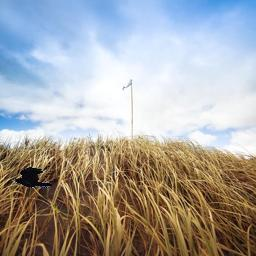Crow: (12, 167, 52, 189)
